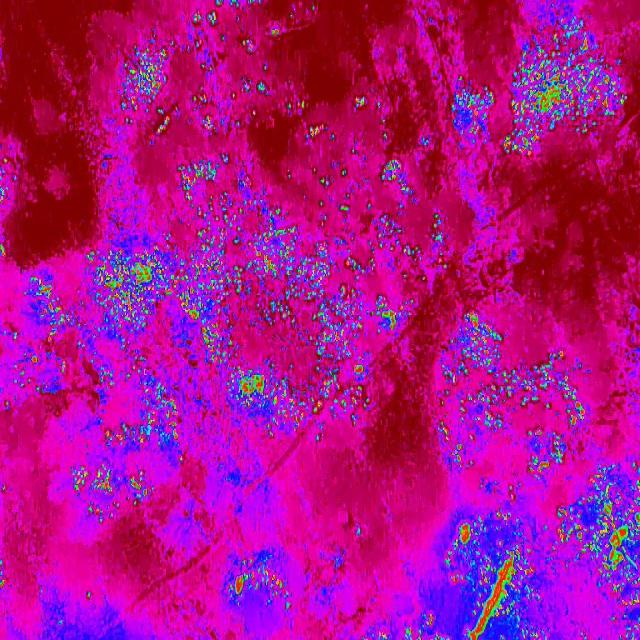fire: (185, 161, 370, 435), (436, 312, 586, 470), (86, 243, 185, 447), (503, 22, 632, 152), (557, 474, 640, 640), (432, 514, 538, 640), (370, 158, 419, 344), (9, 271, 80, 394), (108, 40, 180, 135), (67, 464, 155, 526), (218, 553, 302, 613), (449, 73, 497, 143), (190, 0, 222, 29), (240, 76, 270, 98), (304, 118, 330, 143), (353, 90, 369, 115)
